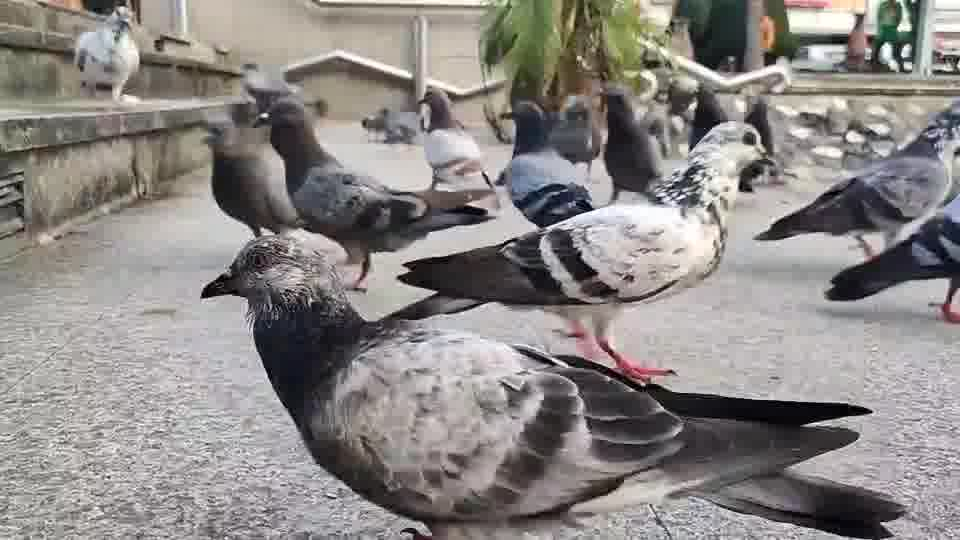Pigeon: (199, 231, 907, 538), (382, 119, 777, 384), (243, 77, 497, 292), (751, 114, 955, 261), (822, 193, 959, 323), (494, 99, 597, 228), (414, 86, 495, 191), (600, 86, 663, 200), (72, 4, 142, 104), (360, 106, 418, 144)
